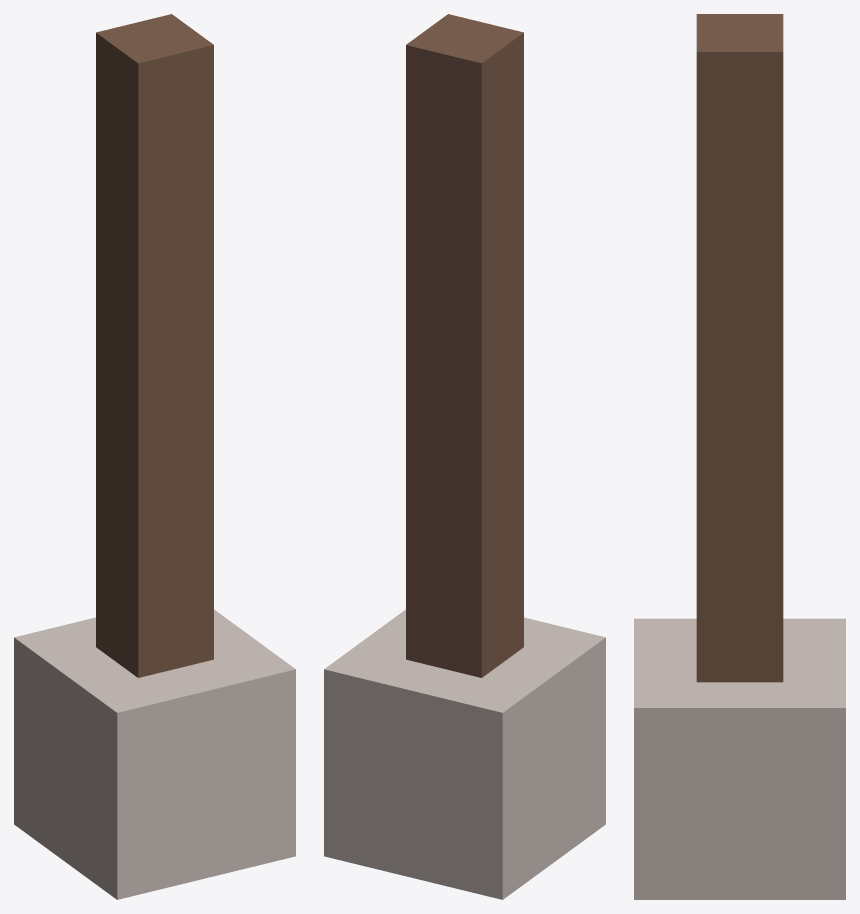
The model's file is House_structure_post_long_geo.fbx.
3 renders of one model, left to right at view 1: azimuth 30°, elevation 25°; view 2: azimuth 150°, elevation 25°; view 3: azimuth 270°, elevation 25°, orthographic. The views are drawn at different scales.
Visible parts, largest first — view 1: post_long_geo; view 2: post_long_geo; view 3: post_long_geo.
Part boxes in pixels (x1=…): post_long_geo: x1=14, y1=14, x2=295, y2=899; post_long_geo: x1=324, y1=14, x2=605, y2=899; post_long_geo: x1=634, y1=14, x2=845, y2=899.
Bounding box in the file's own units: 70 × 300 × 70.
